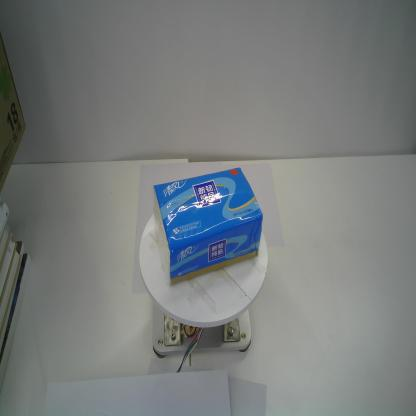Tissue: (152, 167, 263, 285)
